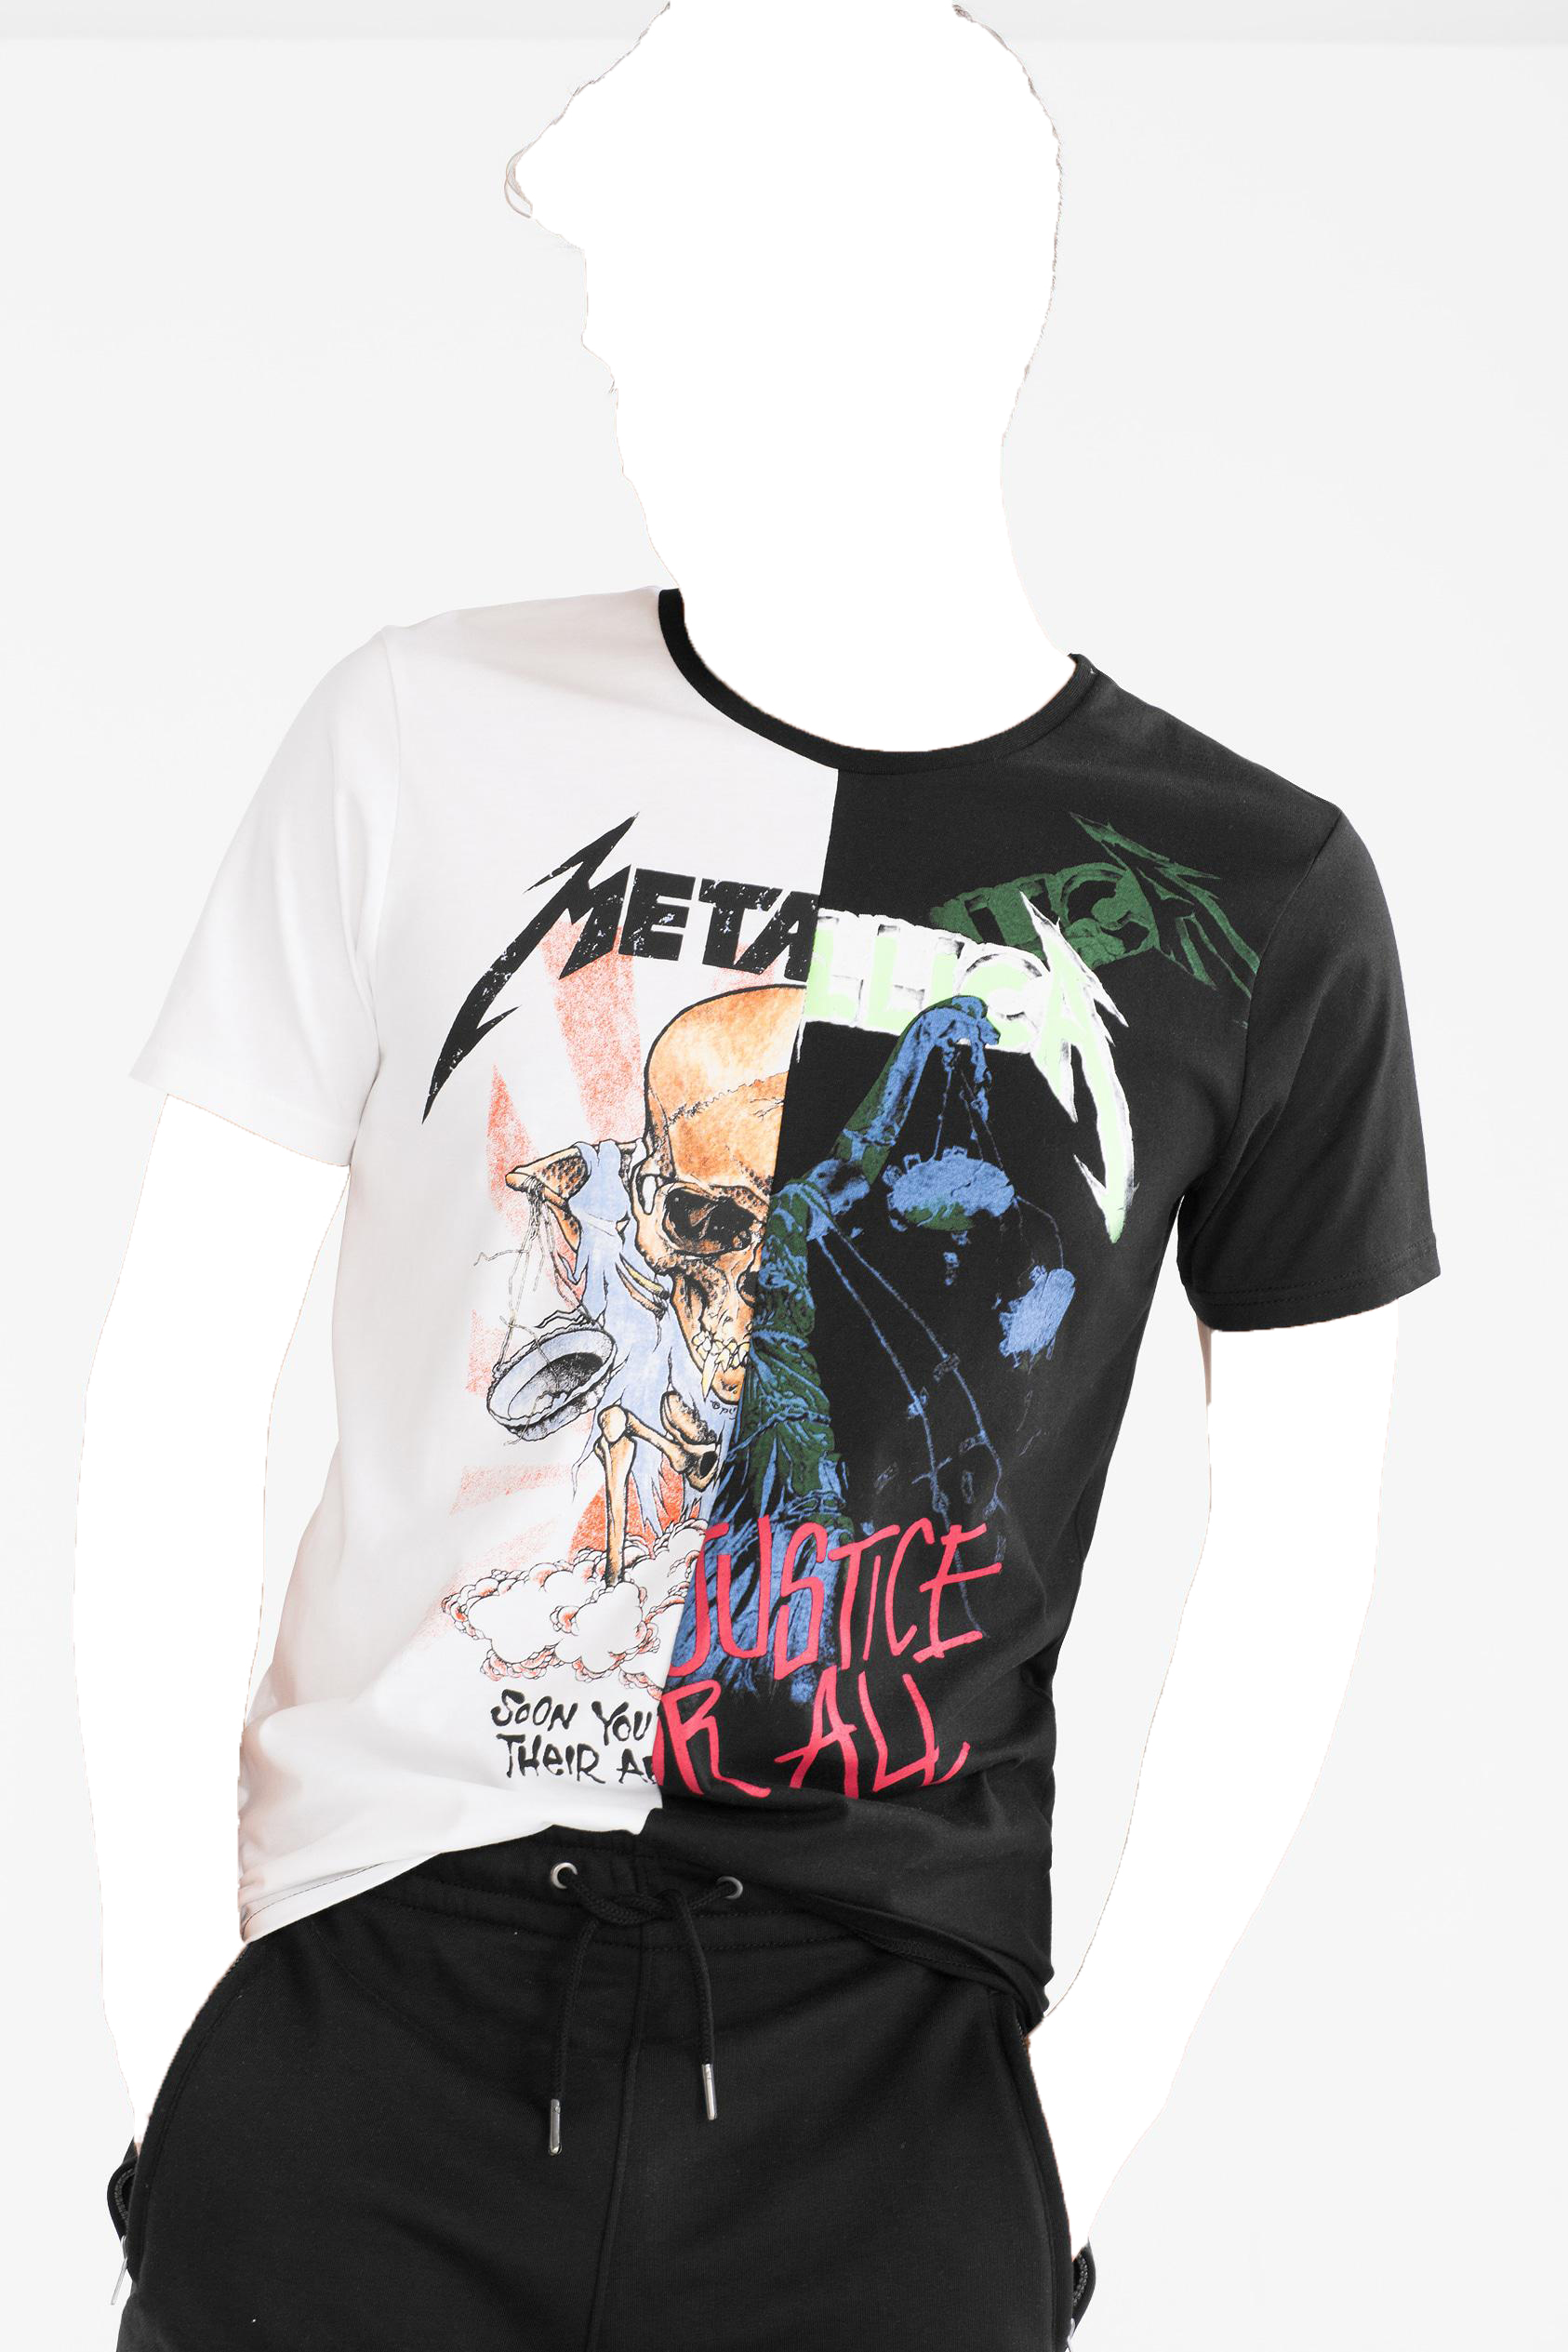teeshirt: (115, 593, 1454, 2013)
